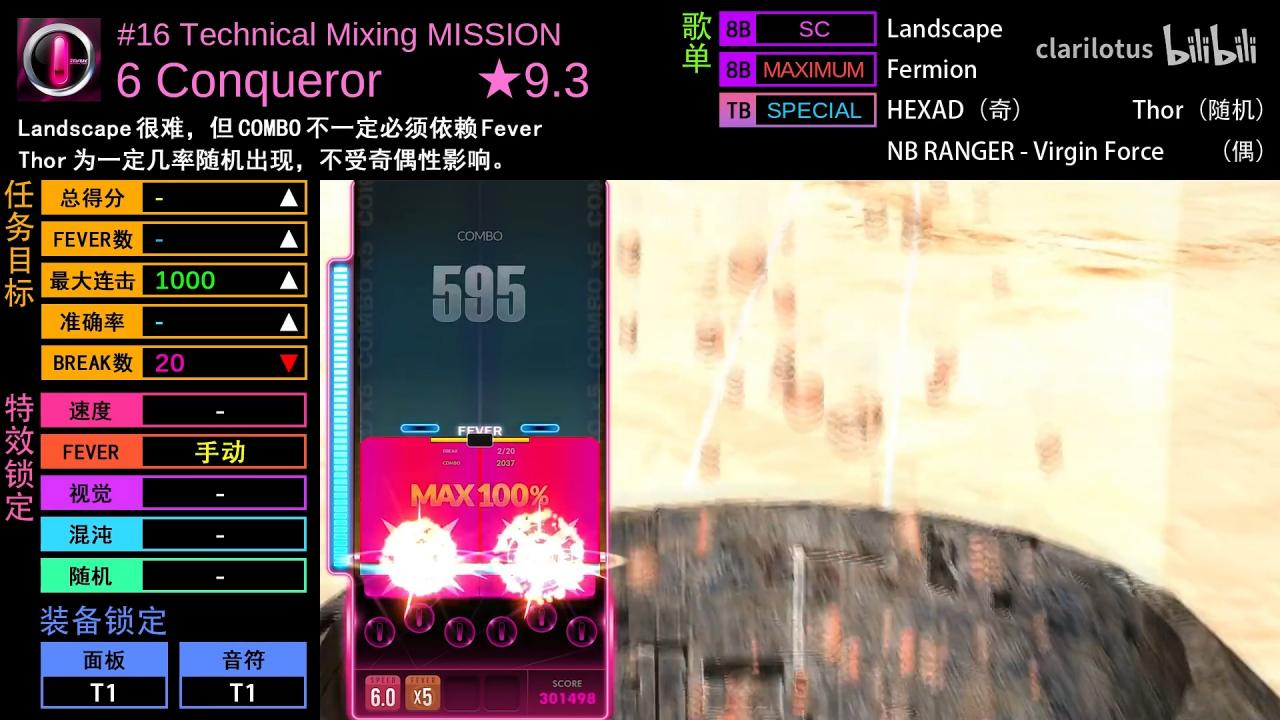note: (401, 422, 439, 434), (521, 423, 559, 434)
xend: (359, 436, 480, 450), (481, 436, 600, 450)
